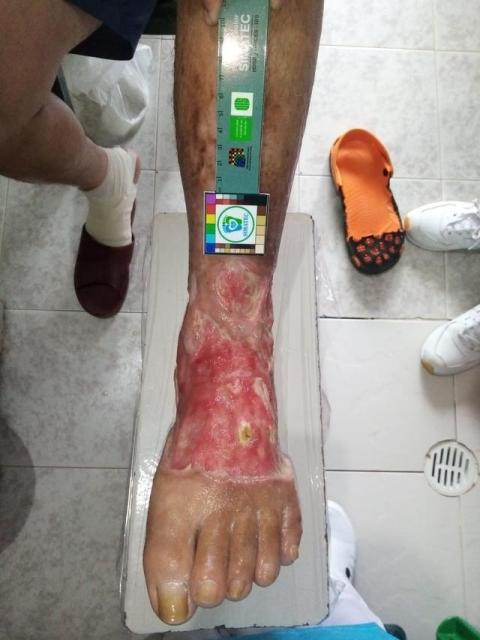wound: (168, 275, 284, 483), (217, 260, 261, 321), (189, 275, 197, 302)
